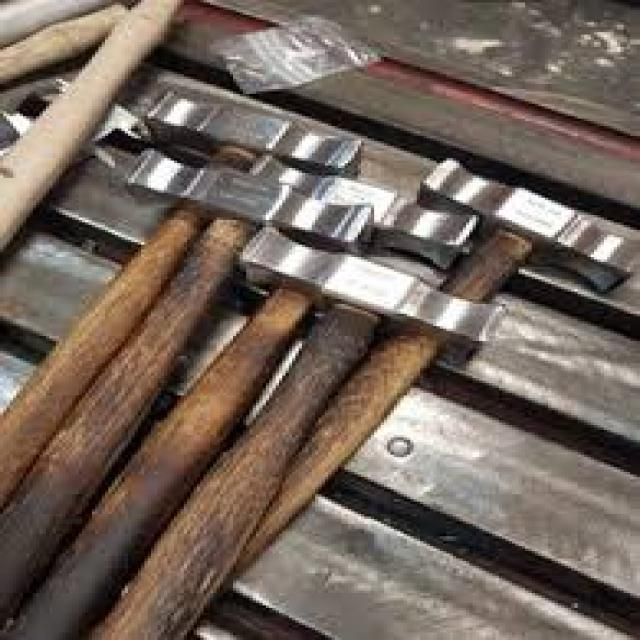hammer: (3, 153, 486, 640), (241, 155, 635, 640), (0, 148, 381, 640), (98, 225, 506, 640), (0, 88, 368, 506)
